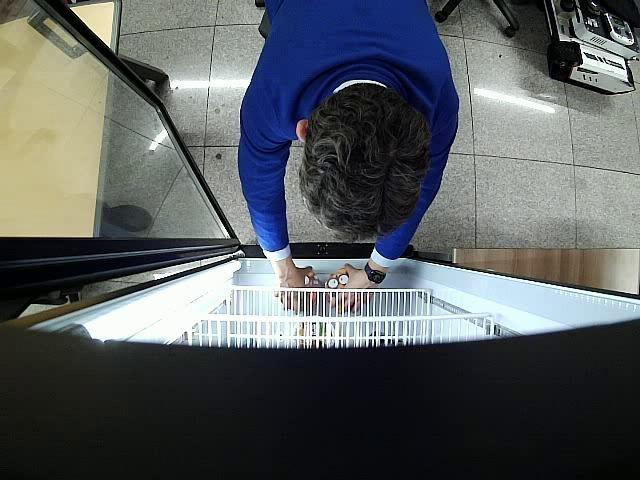05_nuguri_L: (281, 272, 320, 309), (326, 269, 350, 308)
